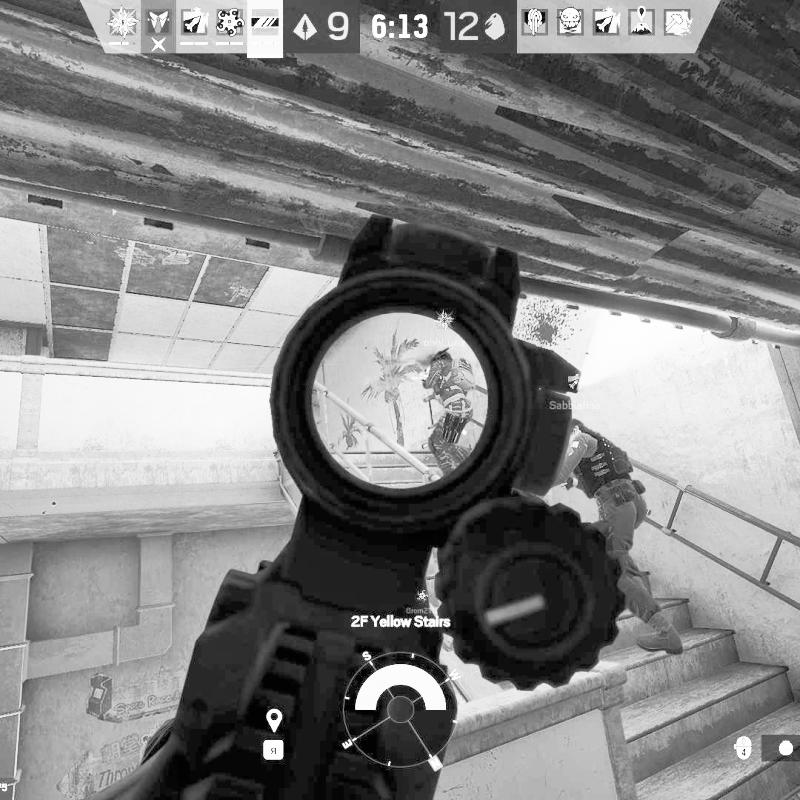Character: (560, 416, 686, 656), (413, 348, 478, 476)
Friend_label: (548, 372, 602, 411), (421, 308, 467, 349), (404, 590, 440, 616)
Head: (565, 418, 595, 440), (430, 349, 454, 365)
